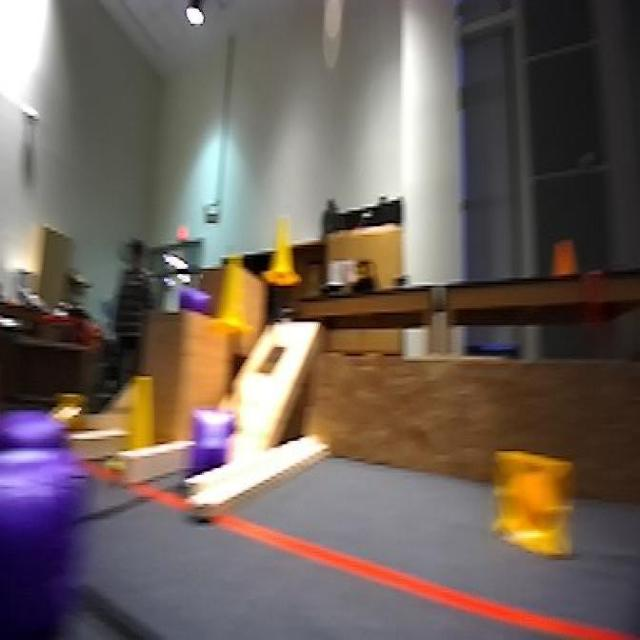frc_cone: (492, 448, 576, 563), (108, 368, 164, 483), (216, 238, 254, 339), (41, 386, 87, 441), (270, 218, 294, 294)
frc_cube: (0, 453, 90, 640), (0, 410, 67, 463), (184, 414, 226, 490), (164, 284, 210, 313)
